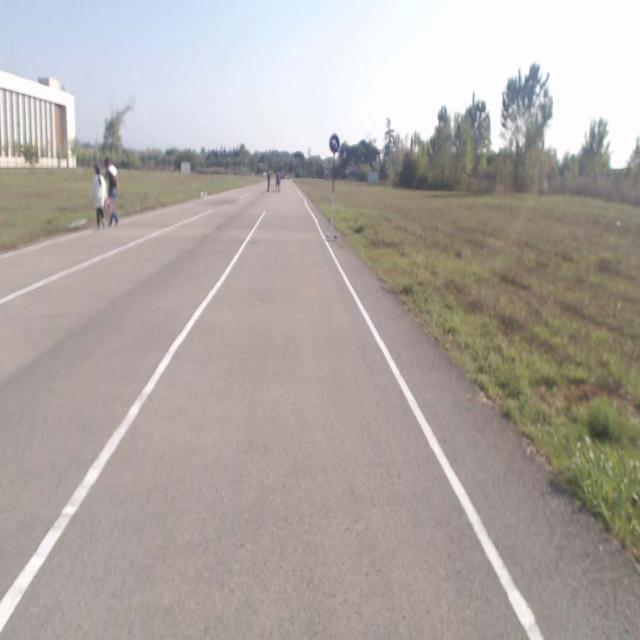sol: (329, 133, 338, 151)
